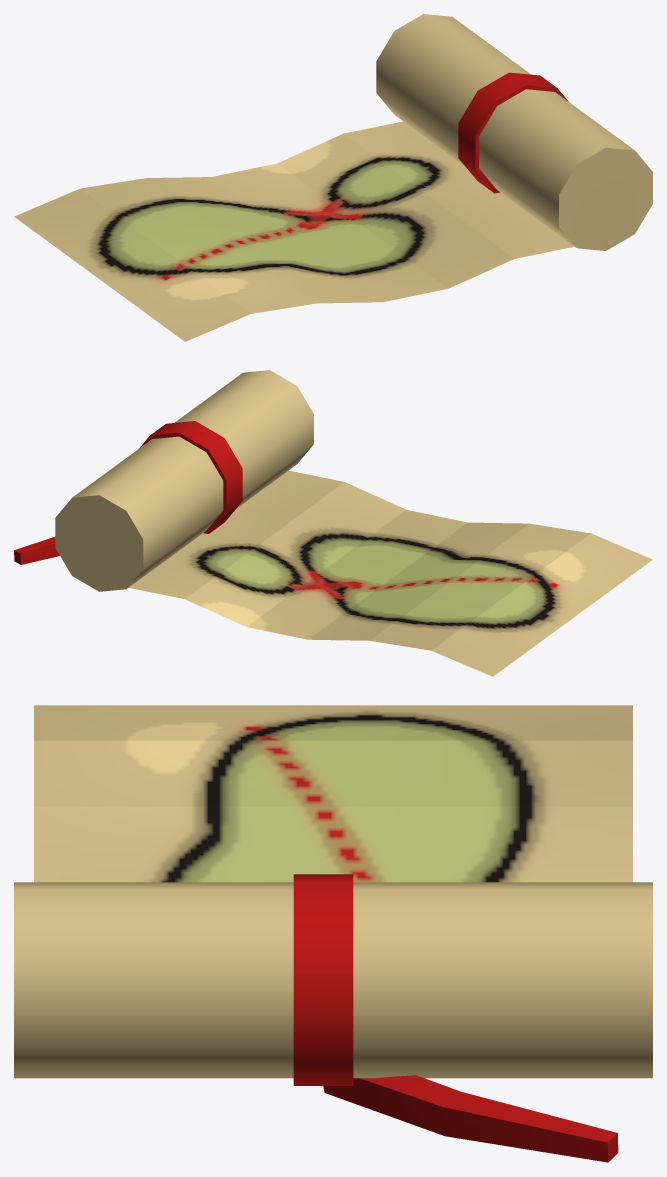
Rendered from Decor_MapScroll.fbx.
3 views of the same model, one above another, from view 1: azimuth 30°, elevation 25°; view 2: azimuth 150°, elevation 25°; view 3: azimuth 270°, elevation 25° (orthographic). The views are drawn at different scales.
Visible parts, largest first — view 1: Decor_MapScroll; view 2: Decor_MapScroll; view 3: Decor_MapScroll.
Boxes of the visible parts, <box> form: Decor_MapScroll: <box>14,14,652,341</box>; Decor_MapScroll: <box>14,370,652,676</box>; Decor_MapScroll: <box>14,705,652,1162</box>.
Bounding box in the file's own units: 0.5253 × 0.1139 × 0.32.
Materials: 1 (1 with a texture image).
